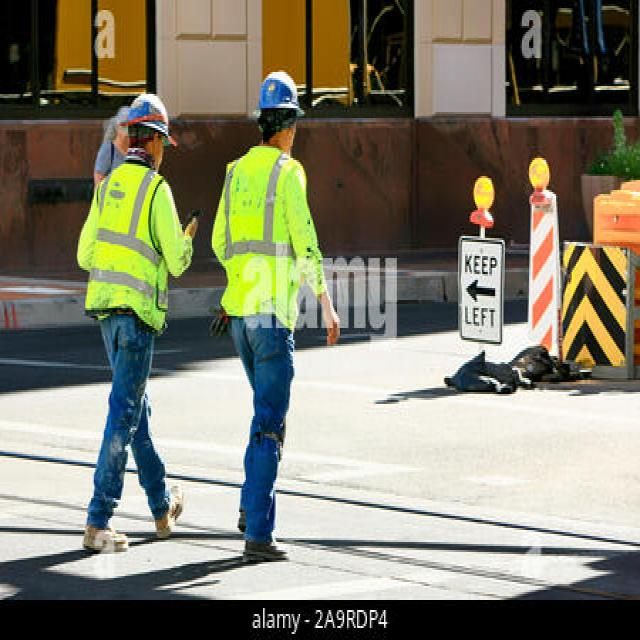Reflective-Jacket: (206, 144, 332, 336), (74, 162, 188, 336)
Safety-Helmet: (112, 84, 181, 150), (249, 62, 306, 124), (524, 152, 554, 190)
